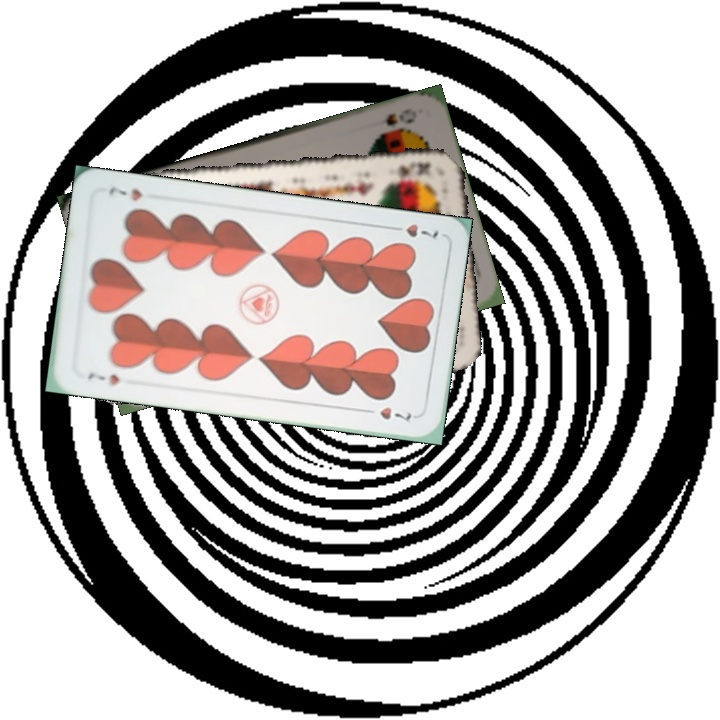H7: (385, 220, 441, 241), (84, 369, 122, 388)
SK: (384, 157, 433, 185)
SO: (372, 104, 420, 138)
